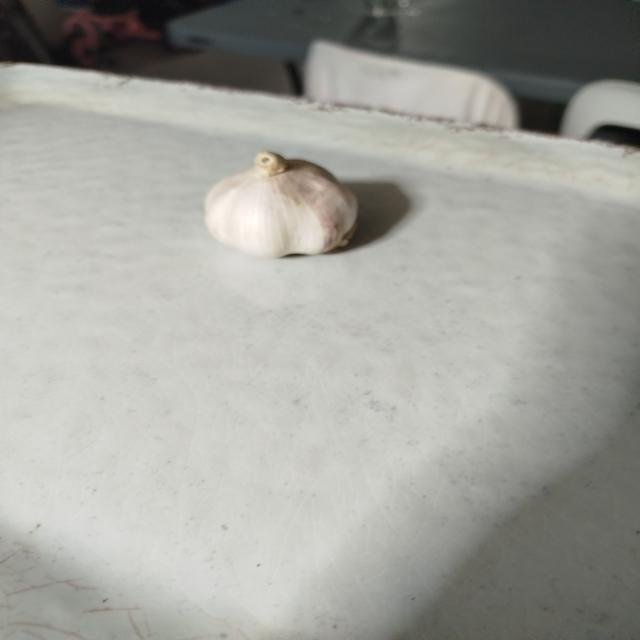garlic: (203, 149, 359, 259)
